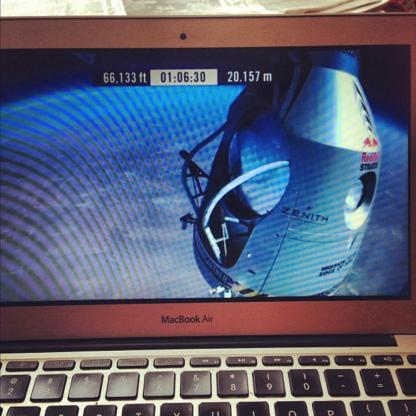board: (0, 23, 416, 416)
